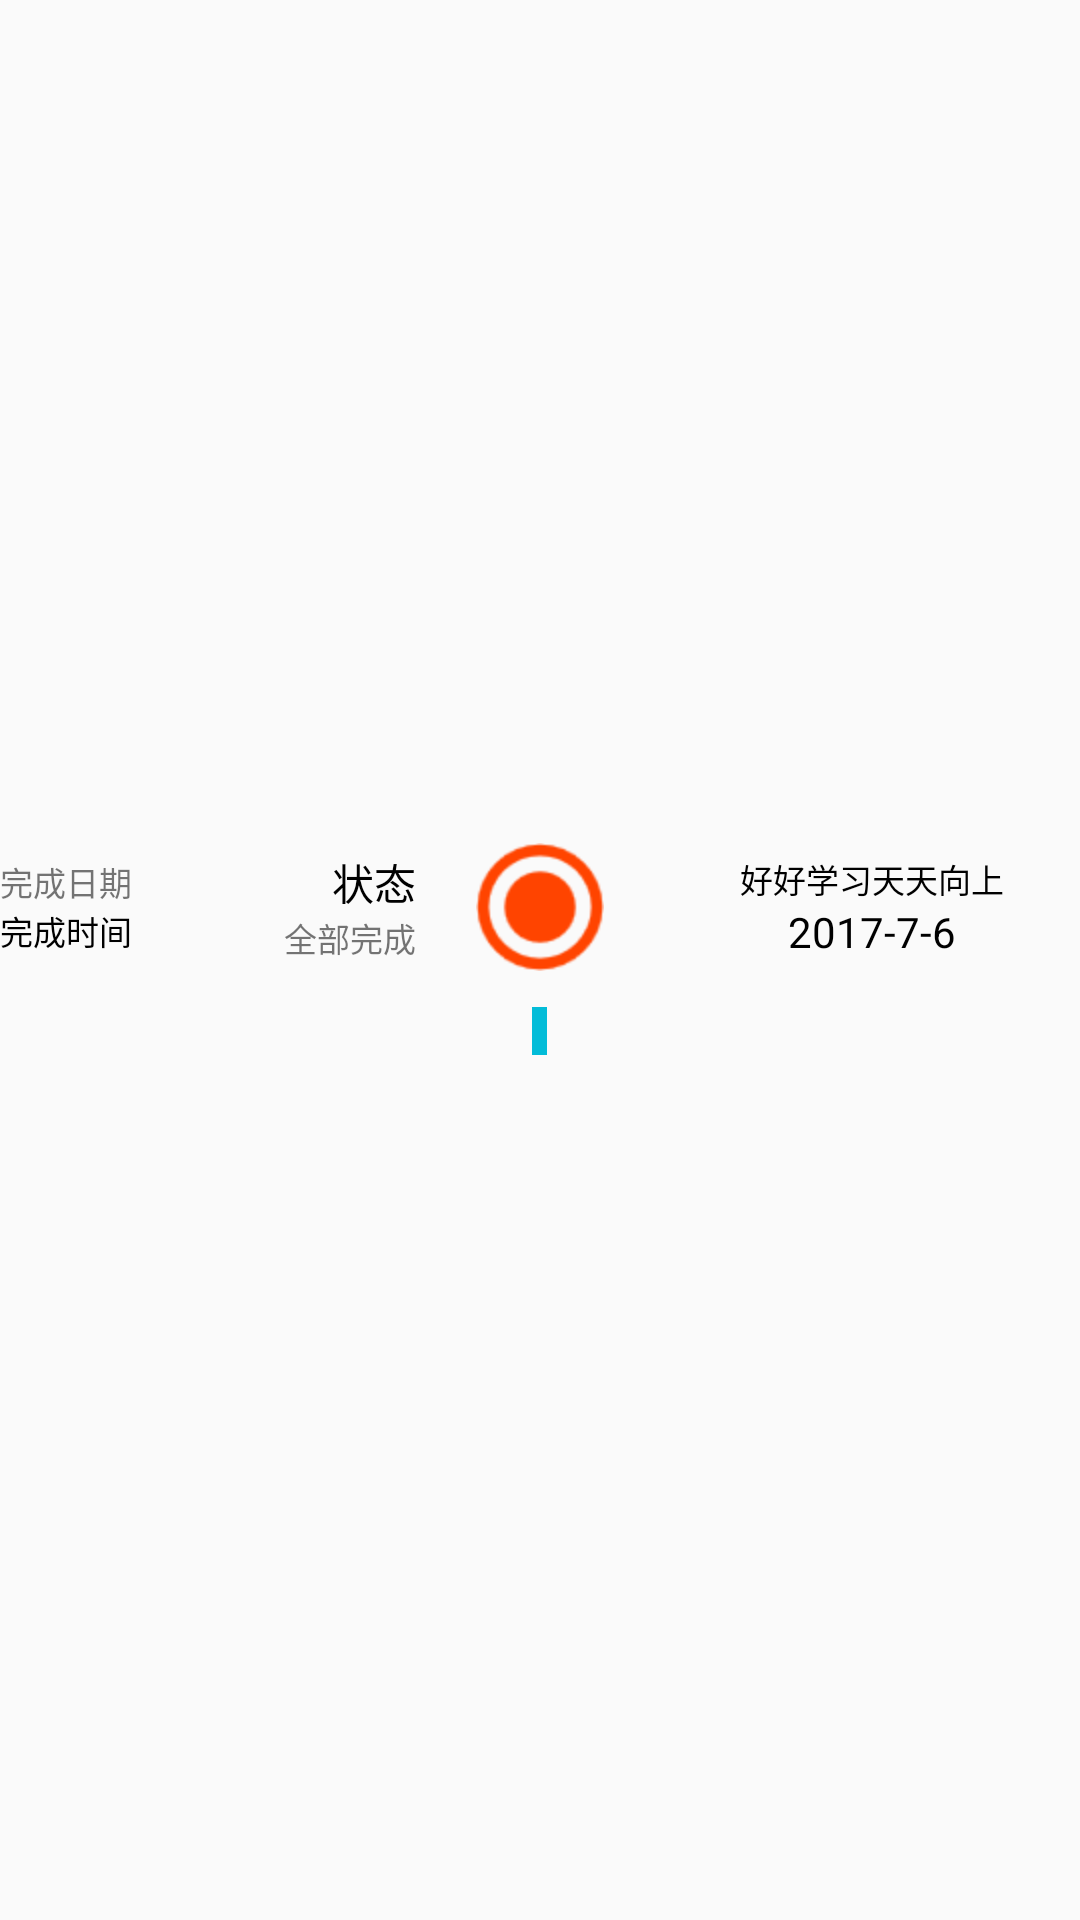

Screen size 1080px x 1920px. Icon name, then its box in pixels as (x1, y1, x2, y2):
ring: (476, 843, 604, 971)
